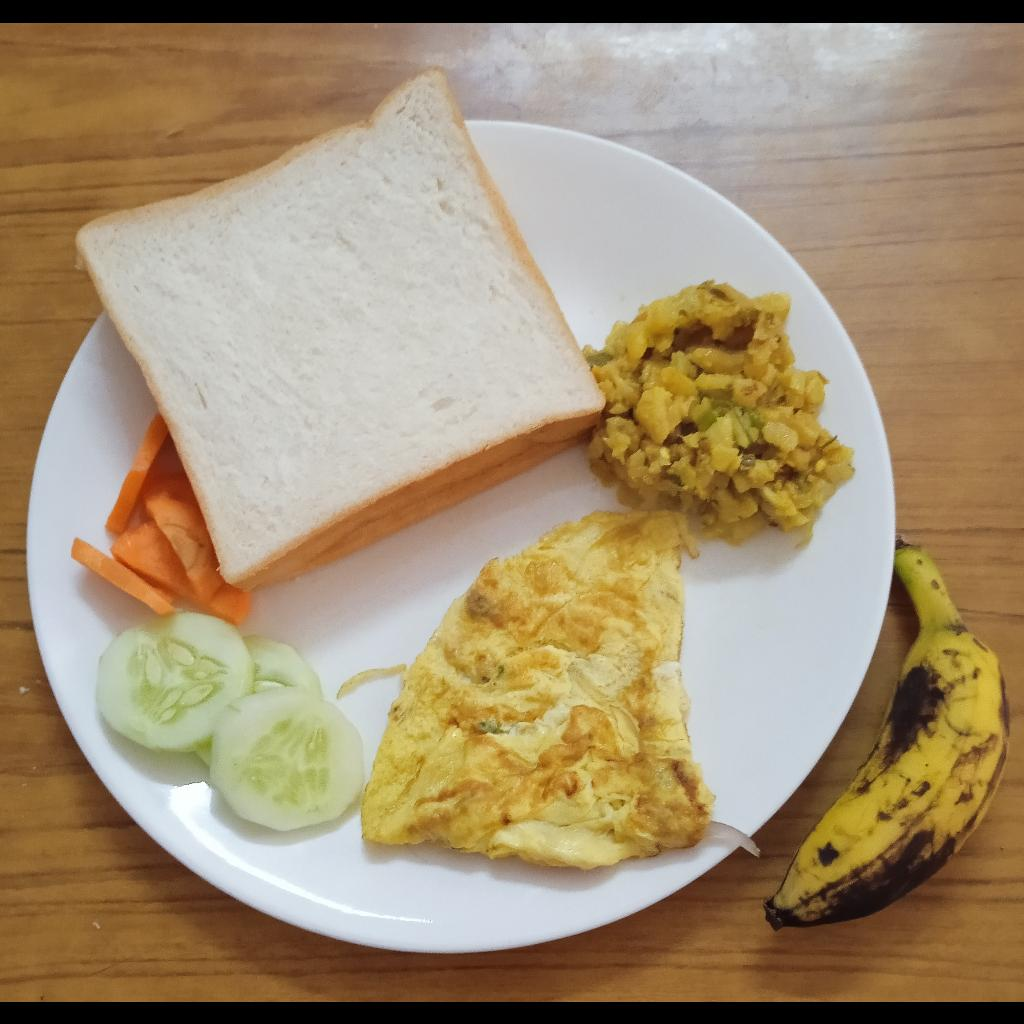banana: (761, 541, 1011, 930)
bread: (76, 63, 605, 597)
carrot: (70, 414, 250, 625)
cucumber: (96, 614, 362, 831)
egg-poached: (337, 507, 717, 868)
lau: (587, 281, 856, 547)
